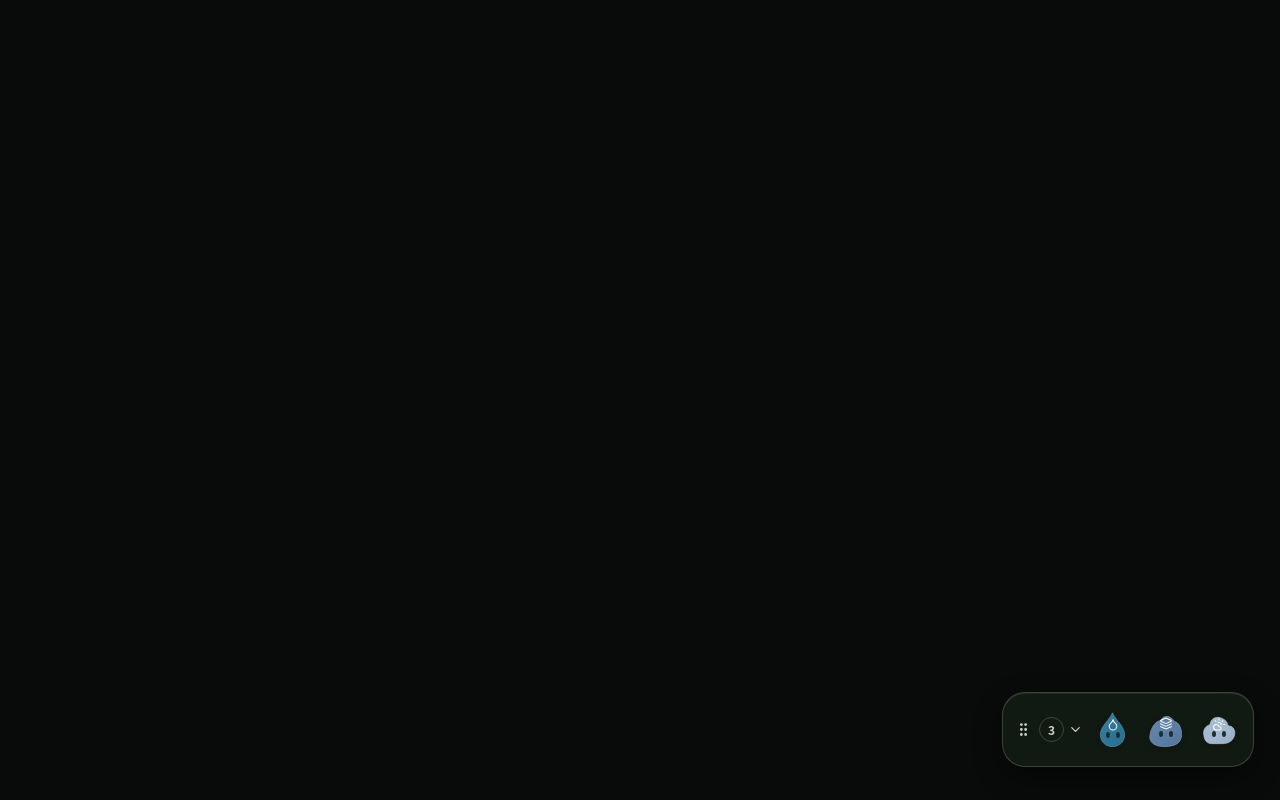
Test: creates a scoped conversation, sends, and shows the server reply and source
Step 1. Click the button named "Open Water specialist" → x=1112, y=730, box [1088,705,1137,754]
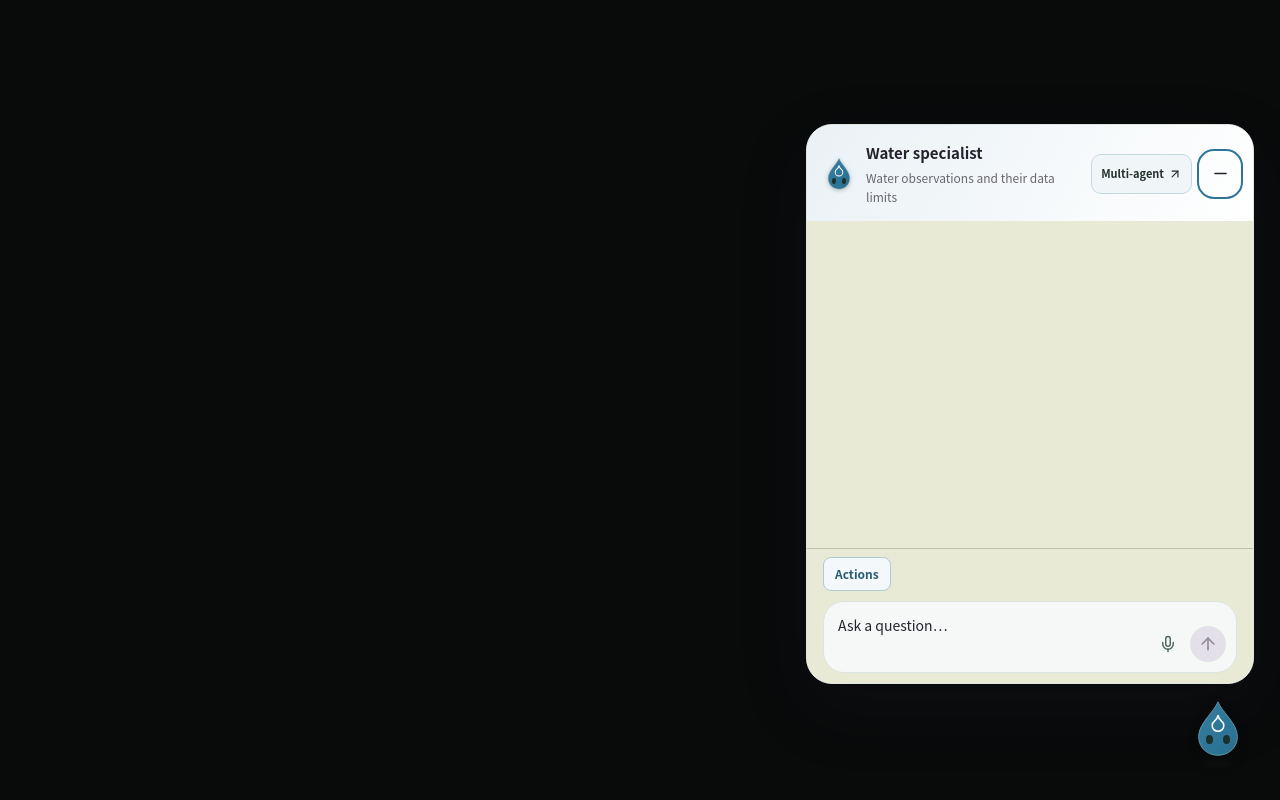
Expected: the text box named "Message Water specialist" is shown
Step 2. Type "How wet is this field?" into the text box → x=990, y=638, box [838,614,1142,662]
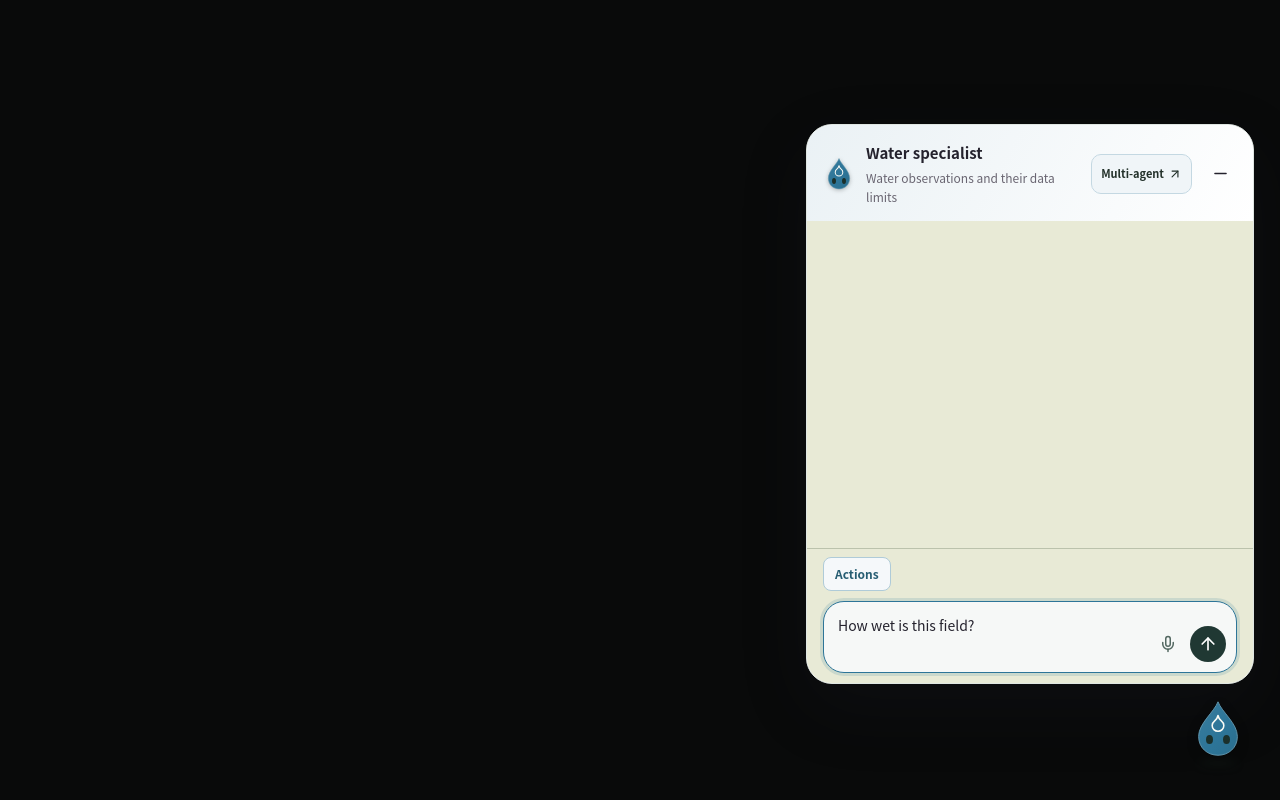
Step 3. Click the button named "Send message" → x=1208, y=644, box [1190,626,1226,662]
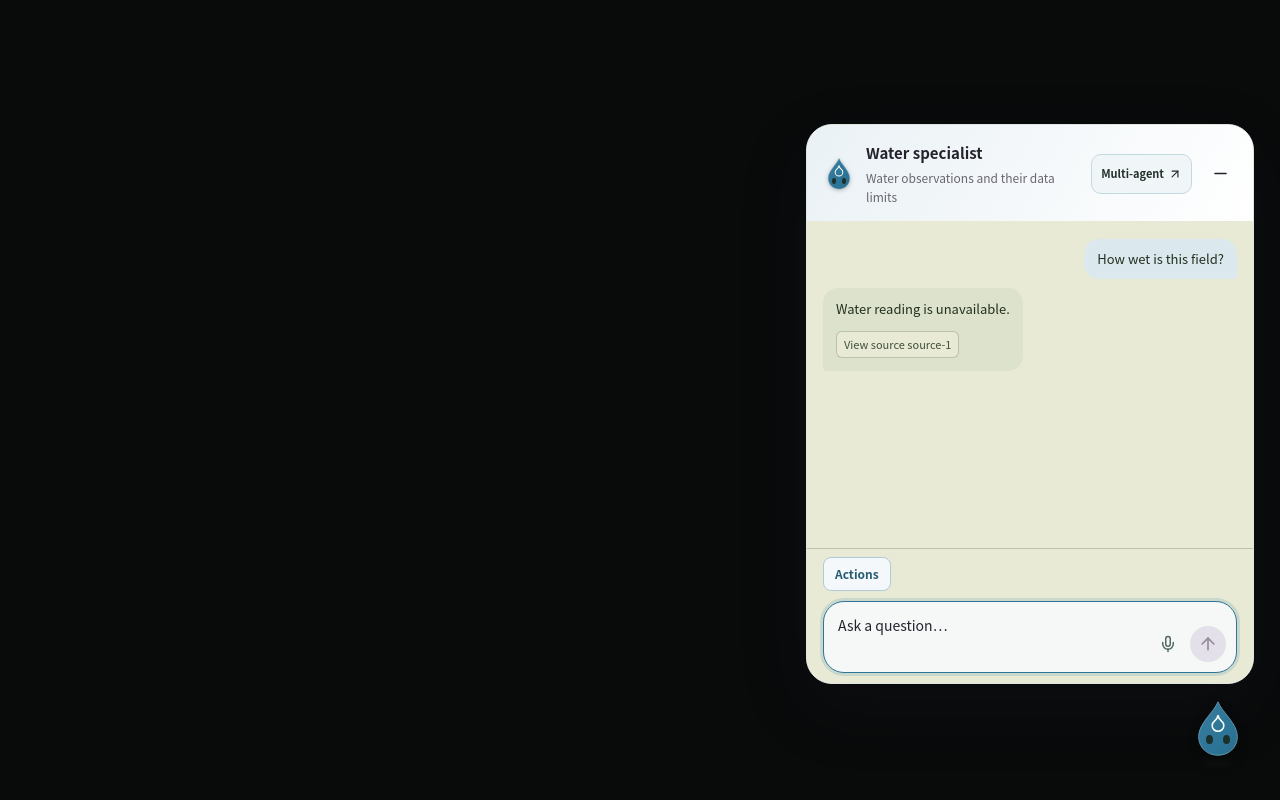
Expected: the text "Water reading is unavailable." is shown, [836,299,1010,319]
Step 4. Click the button "View source source-1" → x=898, y=345, box [836,331,960,358]
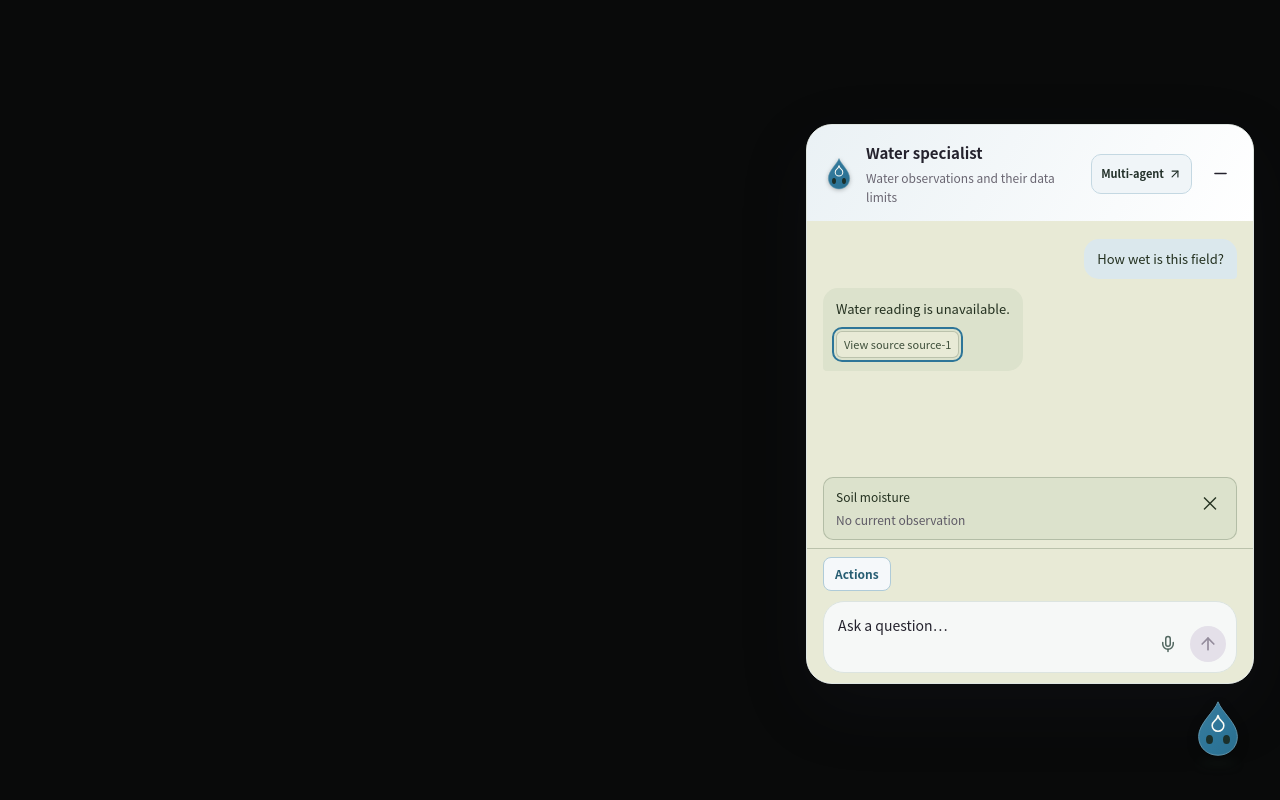
Expected: the text "No current observation" is shown, [836,511,965,528]
